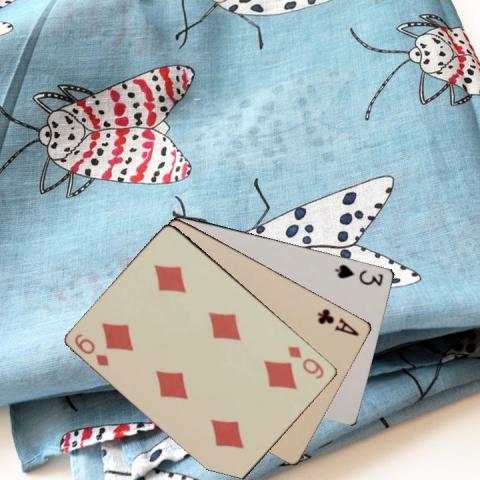3s: (333, 261, 385, 287)
6d: (72, 330, 111, 369), (285, 343, 326, 380)
Ac: (315, 306, 361, 338)
